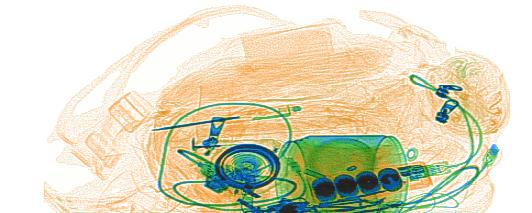battery: (307, 158, 439, 208)
